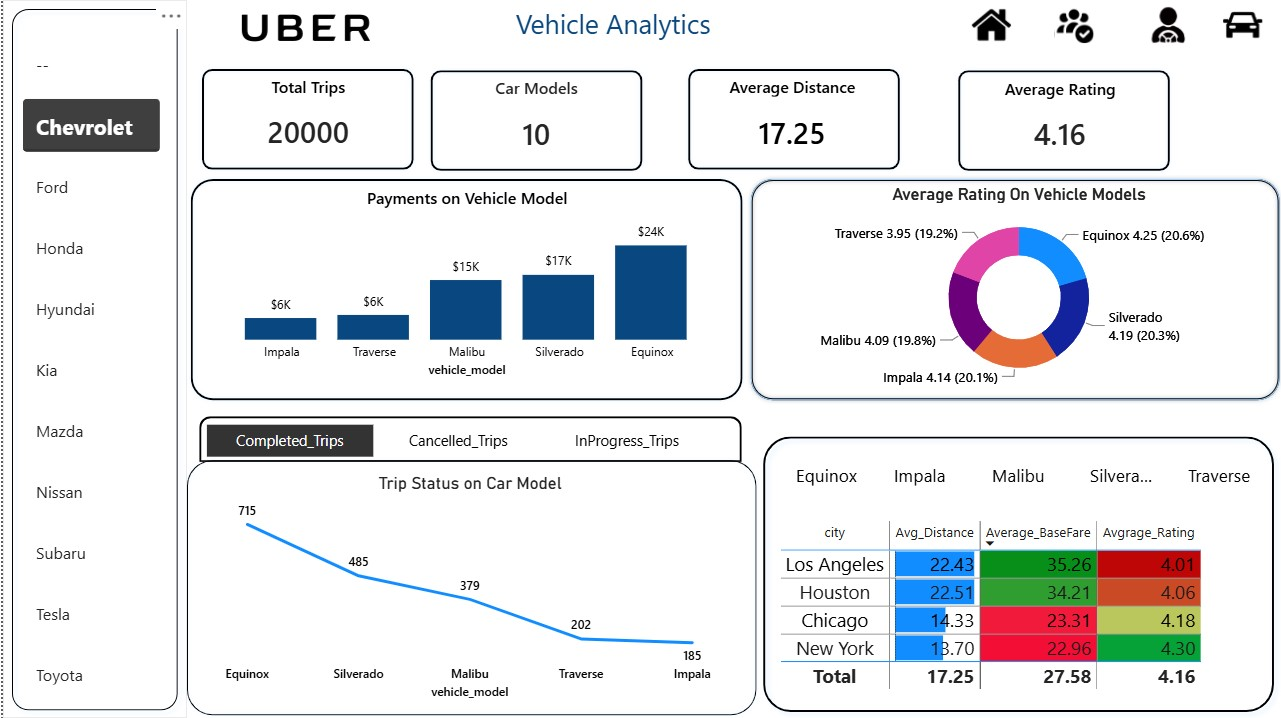

Layout of this report page (visuals, bound fields, positions):
{"tool":"powerbi","page":{"name":"vehicles","canvas":[1280,720],"ordinal":3},"visuals":[{"type":"textbox","box":[214.7,0,790.2,48.3],"z":0},{"type":"actionButton","box":[951.7,1.4,74.3,47.3],"z":0,"group":"g4"},{"type":"shape","box":[194.8,65.4,219.6,108.6],"z":0,"group":"g6"},{"type":"group","id":"g1","title":"Group 2","box":[681.7,65.4,219.6,108.6],"z":0,"group":"g7"},{"type":"shape","box":[681.7,65.4,219.6,108.6],"z":0,"group":"g1"},{"type":"group","id":"g2","title":"Group 2","box":[424.3,66.8,219.6,108.6],"z":0,"group":"g5"},{"type":"shape","box":[424.3,66.8,219.6,108.6],"z":0,"group":"g2"},{"type":"group","id":"g3","title":"Group 2","box":[951.7,66.8,219.6,108.6],"z":0,"group":"g8"},{"type":"shape","box":[951.7,66.8,219.6,108.6],"z":0,"group":"g3"},{"type":"group","id":"g4","title":"Group 1","box":[951.7,0,325.6,48.7],"z":1000},{"type":"actionButton","box":[1034.1,0,74.3,47.3],"z":1000,"group":"g4"},{"type":"cardVisual","title":"Average Distance","fields":{"Data":["cancellations.Avg_Distance"]},"box":[701,75.1,178.6,89.3],"z":1000,"group":"g7"},{"type":"cardVisual","title":"Total Trips","fields":{"Data":["cancellations.Total_Trips"]},"box":[208.3,75.8,193,88.1],"z":1000,"group":"g6"},{"type":"cardVisual","title":"Car Models","fields":{"Data":["cancellations.Total_CarModel"]},"box":[438.8,76.5,189.4,89.3],"z":1000,"group":"g2"},{"type":"cardVisual","title":"Average Rating","fields":{"Data":["cancellations.Avgrage_Rating"]},"box":[961.4,77.7,191.8,86.9],"z":1000,"group":"g3"},{"type":"shape","box":[183.4,174.9,559.8,229.2],"z":1000,"group":"g9"},{"type":"shape","box":[743.1,174.9,536.9,229.2],"z":1000,"group":"g16"},{"type":"shape","box":[743.2,174.9,536.9,229.2],"z":1000,"group":"g17"},{"type":"donutChart","title":"Average Rating On Vehicle Models","fields":{"Category":["drivers.vehicle_model"],"Y":["Avg(drivers.rating)"]},"box":[777.6,183.3,474.4,208.7],"z":1500,"group":"g16"},{"type":"donutChart","title":"Average Rating On Vehicle Models","fields":{"Category":["drivers.vehicle_model"],"Y":["Avg(drivers.rating)"]},"box":[777.7,183.3,474.4,208.7],"z":1500,"group":"g17"},{"type":"clusteredColumnChart","title":"Payments on Vehicle Model","fields":{"Y":["cancellations.Total_Payments"],"Category":["drivers.vehicle_model"]},"box":[199.8,185.8,528.4,196.6],"z":1500,"group":"g9"},{"type":"actionButton","box":[1129.2,1.2,72.9,47.5],"z":2000,"group":"g4"},{"type":"group","id":"g5","title":"Group 3","box":[424.3,66.8,219.8,108.5],"z":2000},{"type":"actionButton","box":[1202.4,1.4,74.3,47.3],"z":3000,"group":"g4"},{"type":"group","id":"g6","title":"Group 2","box":[194.8,65.4,218.4,108.5],"z":3000},{"type":"group","id":"g7","title":"Group 4","box":[681.7,65.4,219.8,108.5],"z":4000},{"type":"group","id":"g8","title":"Group 5","box":[951.7,66.8,219.8,108.5],"z":5000},{"type":"group","id":"g9","title":"Group 6","box":[183.4,174.9,559.8,229.2],"z":6000},{"type":"group","id":"g10","title":"Group 7","box":[743.2,174.9,536.9,229.2],"z":7000},{"type":"group","id":"g11","title":"Group 7","box":[743.1,174.9,536.9,229.2],"z":8000},{"type":"group","id":"g12","title":"Group 8","box":[751.3,427.1,528.7,293.6],"z":9000},{"type":"group","id":"g13","title":"Group 9","box":[180.3,456.3,577.4,263],"z":10000},{"type":"group","id":"g14","title":"Group 10","box":[178.1,416,560.7,47.3],"z":11000},{"type":"group","id":"g15","title":"Group 12","box":[0,0,183.7,719.3],"z":12000},{"type":"shape","box":[751.3,427.1,528.7,293.6],"z":12000,"group":"g12"},{"type":"shape","box":[0,0,183.7,719.3],"z":12001,"group":"g15"},{"type":"group","id":"g16","title":"Group 6","box":[743.1,174.9,536.9,229.2],"z":12001,"group":"g11"},{"type":"group","id":"g17","title":"Group 6","box":[743.2,174.9,536.9,229.2],"z":12001,"group":"g10"},{"type":"tableEx","fields":{"Values":["users.city","cancellations.Avg_Distance","Parameter 2.Average_BaseFare","cancellations.Avgrage_Rating"]},"box":[771.4,516.2,474.1,179.8],"z":12500,"group":"g12"},{"type":"advancedSlicerVisual","fields":{"Values":["drivers.vehicle_make"]},"box":[15.3,32,147.9,673.3],"z":12501,"group":"g15"},{"type":"image","box":[180.9,0,243.5,55.7],"z":13000},{"type":"advancedSlicerVisual","fields":{"Values":["drivers.vehicle_model"]},"box":[774.5,439.4,492.5,69.6],"z":14000,"group":"g12"},{"type":"shape","box":[180.3,456.3,577.4,263],"z":14002,"group":"g13"},{"type":"shape","box":[196.6,416,542.6,45.9],"z":14004,"group":"g18"},{"type":"group","id":"g18","title":"Group 11","box":[178.1,416,560.7,47.3],"z":14006,"group":"g14"},{"type":"lineChart","title":"Trip Status on Car Model","fields":{"Y":["cancellations.Completed_Trips"],"Category":["drivers.vehicle_model"]},"box":[195.2,472.5,544,232.3],"z":14502,"group":"g13"},{"type":"slicer","fields":{"Values":["parameter.parameter"]},"box":[178.1,417.8,553.7,45.9],"z":14504,"group":"g18"}]}

Visuals, with their boxes in screenshot pixels (x1, y1, x2, y2):
textbox: pyautogui.locateOnScreen(221, 0, 997, 47)
actionButton: pyautogui.locateOnScreen(945, 1, 1018, 48)
shape: pyautogui.locateOnScreen(201, 64, 417, 171)
"Group 2" group: pyautogui.locateOnScreen(680, 64, 895, 171)
shape: pyautogui.locateOnScreen(680, 64, 895, 171)
"Group 2" group: pyautogui.locateOnScreen(427, 66, 643, 172)
shape: pyautogui.locateOnScreen(427, 66, 643, 172)
"Group 2" group: pyautogui.locateOnScreen(945, 66, 1161, 172)
shape: pyautogui.locateOnScreen(945, 66, 1161, 172)
"Group 1" group: pyautogui.locateOnScreen(945, 0, 1265, 48)
actionButton: pyautogui.locateOnScreen(1026, 0, 1099, 46)
"Average Distance" cardVisual: pyautogui.locateOnScreen(699, 74, 874, 162)
"Total Trips" cardVisual: pyautogui.locateOnScreen(215, 74, 404, 161)
"Car Models" cardVisual: pyautogui.locateOnScreen(441, 75, 627, 163)
"Average Rating" cardVisual: pyautogui.locateOnScreen(954, 76, 1143, 162)
shape: pyautogui.locateOnScreen(190, 172, 740, 397)
shape: pyautogui.locateOnScreen(740, 172, 1267, 397)
shape: pyautogui.locateOnScreen(740, 172, 1268, 397)
"Average Rating On Vehicle Models" donutChart: pyautogui.locateOnScreen(774, 180, 1240, 385)
"Average Rating On Vehicle Models" donutChart: pyautogui.locateOnScreen(774, 180, 1240, 385)
"Payments on Vehicle Model" clusteredColumnChart: pyautogui.locateOnScreen(206, 183, 725, 376)
actionButton: pyautogui.locateOnScreen(1119, 1, 1191, 48)
"Group 3" group: pyautogui.locateOnScreen(427, 66, 643, 172)
actionButton: pyautogui.locateOnScreen(1191, 1, 1264, 48)
"Group 2" group: pyautogui.locateOnScreen(201, 64, 416, 171)
"Group 4" group: pyautogui.locateOnScreen(680, 64, 896, 171)
"Group 5" group: pyautogui.locateOnScreen(945, 66, 1161, 172)
"Group 6" group: pyautogui.locateOnScreen(190, 172, 740, 397)
"Group 7" group: pyautogui.locateOnScreen(740, 172, 1268, 397)
"Group 7" group: pyautogui.locateOnScreen(740, 172, 1267, 397)
"Group 8" group: pyautogui.locateOnScreen(748, 420, 1267, 708)
"Group 9" group: pyautogui.locateOnScreen(187, 448, 754, 707)
"Group 10" group: pyautogui.locateOnScreen(185, 409, 736, 455)
"Group 12" group: pyautogui.locateOnScreen(10, 0, 190, 707)
shape: pyautogui.locateOnScreen(748, 420, 1267, 708)
shape: pyautogui.locateOnScreen(10, 0, 190, 707)
"Group 6" group: pyautogui.locateOnScreen(740, 172, 1267, 397)
"Group 6" group: pyautogui.locateOnScreen(740, 172, 1268, 397)
tableEx - users.city x cancellations.Avg_Distance: pyautogui.locateOnScreen(768, 507, 1234, 684)
advancedSlicerVisual - drivers.vehicle_make: pyautogui.locateOnScreen(25, 31, 170, 693)
image: pyautogui.locateOnScreen(188, 0, 427, 55)
advancedSlicerVisual - drivers.vehicle_model: pyautogui.locateOnScreen(771, 432, 1255, 500)
shape: pyautogui.locateOnScreen(187, 448, 754, 707)
shape: pyautogui.locateOnScreen(203, 409, 736, 454)
"Group 11" group: pyautogui.locateOnScreen(185, 409, 736, 455)
"Trip Status on Car Model" lineChart: pyautogui.locateOnScreen(202, 464, 736, 692)
slicer - parameter.parameter: pyautogui.locateOnScreen(185, 410, 729, 456)
